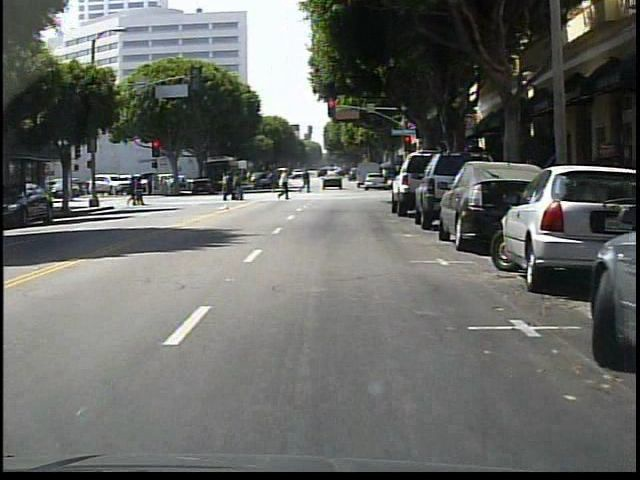person: (271, 166, 293, 204), (296, 167, 314, 196)
